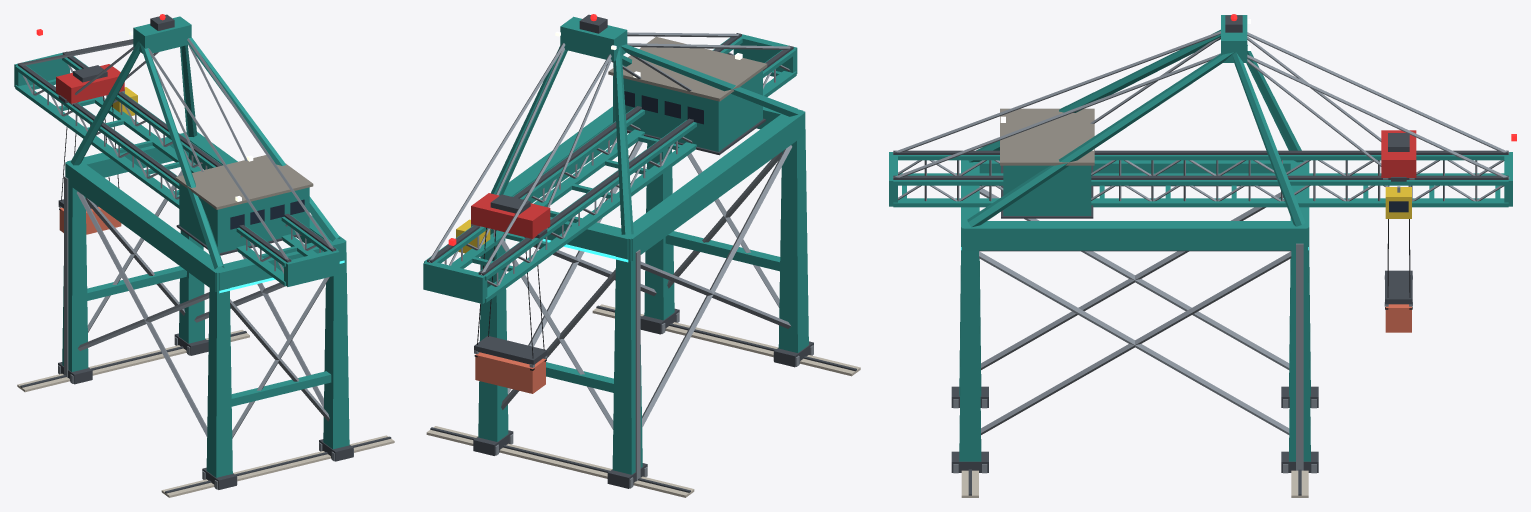
Rendered from crane_dock.glb.
3 views of the same model, side by side, from view 1: azimuth 30°, elevation 25°; view 2: azimuth 150°, elevation 25°; view 3: azimuth 270°, elevation 25° (orthographic). The views are drawn at different scales.
Visible parts, largest first — view 1: Body, Trolley; view 2: Body, Trolley; view 3: Body, Trolley.
Boxes of the visible parts, <box> form: Body: <box>14,14,394,497</box>; Trolley: <box>56,64,137,234</box>; Body: <box>423,14,860,497</box>; Trolley: <box>456,193,550,393</box>; Body: <box>889,14,1516,497</box>; Trolley: <box>1381,130,1416,332</box>.
Bounding box in the file's own units: 27 × 42.3 × 57.15.
